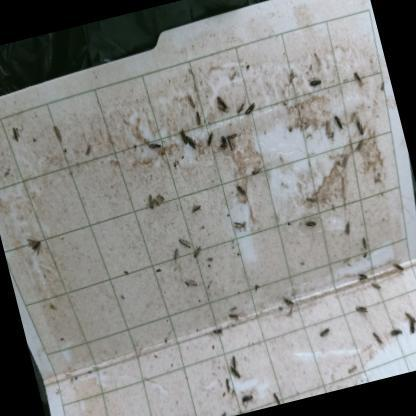prays_oleae: (20, 226, 52, 264), (225, 212, 250, 242), (312, 314, 334, 348), (279, 289, 301, 319), (178, 271, 202, 297), (370, 326, 388, 358), (212, 88, 235, 112), (302, 210, 324, 235), (328, 110, 346, 140), (183, 127, 203, 154), (188, 194, 206, 223), (386, 321, 408, 344), (236, 384, 256, 408), (190, 241, 209, 266), (352, 112, 370, 138), (9, 122, 25, 150), (233, 178, 253, 200), (246, 160, 266, 182), (176, 232, 194, 256), (147, 132, 165, 156), (206, 319, 224, 343), (350, 63, 368, 87), (338, 216, 354, 243), (242, 95, 260, 118), (400, 302, 416, 326), (306, 76, 329, 92), (143, 186, 157, 212), (352, 298, 368, 320), (224, 125, 240, 146), (214, 130, 230, 151), (176, 123, 190, 146), (359, 230, 373, 252), (392, 254, 408, 272), (368, 276, 384, 294), (234, 97, 249, 116), (183, 86, 198, 104), (227, 346, 239, 368), (228, 365, 242, 383), (202, 133, 218, 148), (270, 390, 284, 406), (194, 109, 206, 126), (354, 272, 371, 284), (170, 245, 182, 260), (226, 140, 235, 156), (408, 319, 416, 336)
